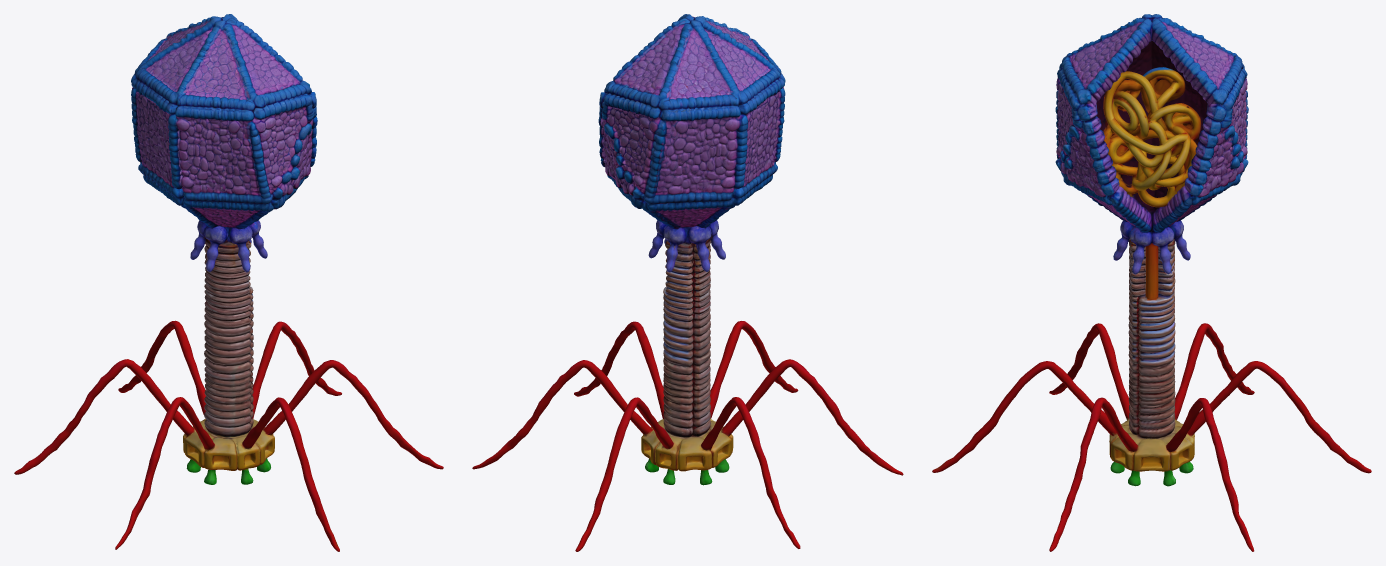
The model's file is Bacteriophage.glb.
3 views of the same model, side by side, from view 1: azimuth 30°, elevation 25°; view 2: azimuth 150°, elevation 25°; view 3: azimuth 270°, elevation 25° (orthographic).
Parts seen in each view (by area): view 1: tripo_node_75ff8a0e-f13a-424f-9fc5-d51dcc8455e3; view 2: tripo_node_75ff8a0e-f13a-424f-9fc5-d51dcc8455e3; view 3: tripo_node_75ff8a0e-f13a-424f-9fc5-d51dcc8455e3.
Part boxes in pixels (left/top/right/bottom): tripo_node_75ff8a0e-f13a-424f-9fc5-d51dcc8455e3: left=14, top=14, right=443, bottom=551; tripo_node_75ff8a0e-f13a-424f-9fc5-d51dcc8455e3: left=472, top=14, right=903, bottom=551; tripo_node_75ff8a0e-f13a-424f-9fc5-d51dcc8455e3: left=932, top=14, right=1371, bottom=551.
Size of the model in its own units: 0.7554 by 1 by 0.8777.
1 material, 1 textured.
